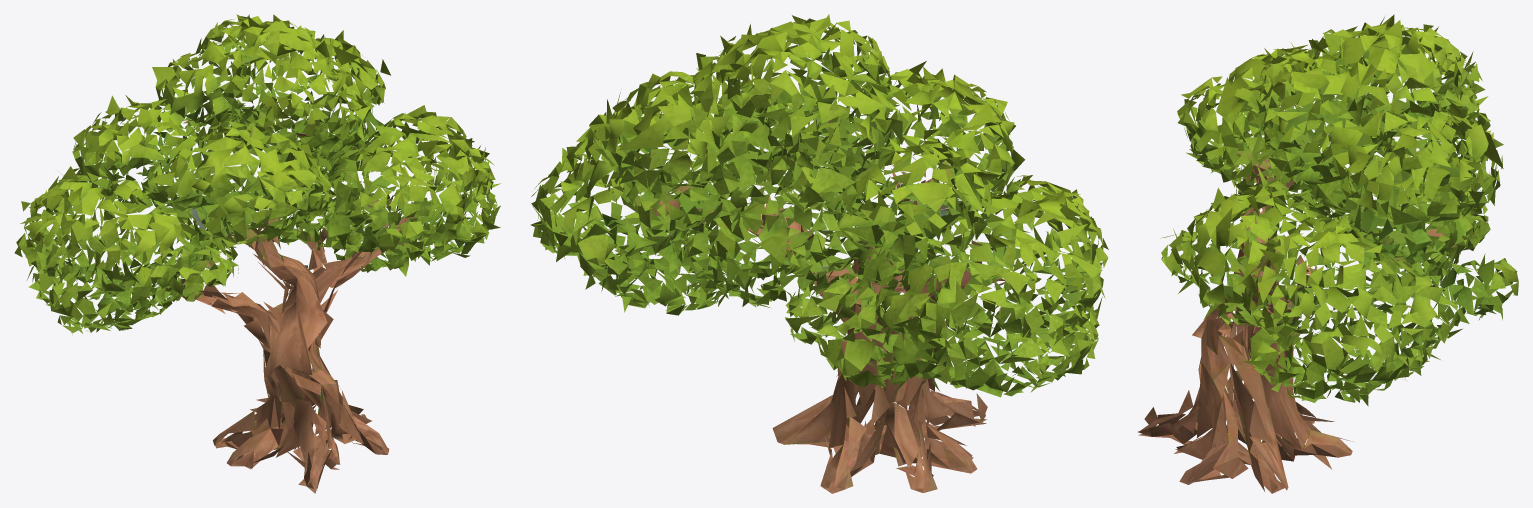
The model's file is tree_puffy.glb.
3 renders of one model, left to right at view 1: azimuth 30°, elevation 25°; view 2: azimuth 150°, elevation 25°; view 3: azimuth 270°, elevation 25°, orthographic. The views are drawn at different scales.
Visible parts, largest first — view 1: Mesh_0; view 2: Mesh_0; view 3: Mesh_0.
Part boxes in pixels (x1=…): Mesh_0: x1=14, y1=14, x2=500, y2=493; Mesh_0: x1=530, y1=14, x2=1108, y2=493; Mesh_0: x1=1138, y1=14, x2=1518, y2=493.
Bounding box in the file's own units: 1.91 × 1.57 × 1.21.
1 material, 1 textured.
